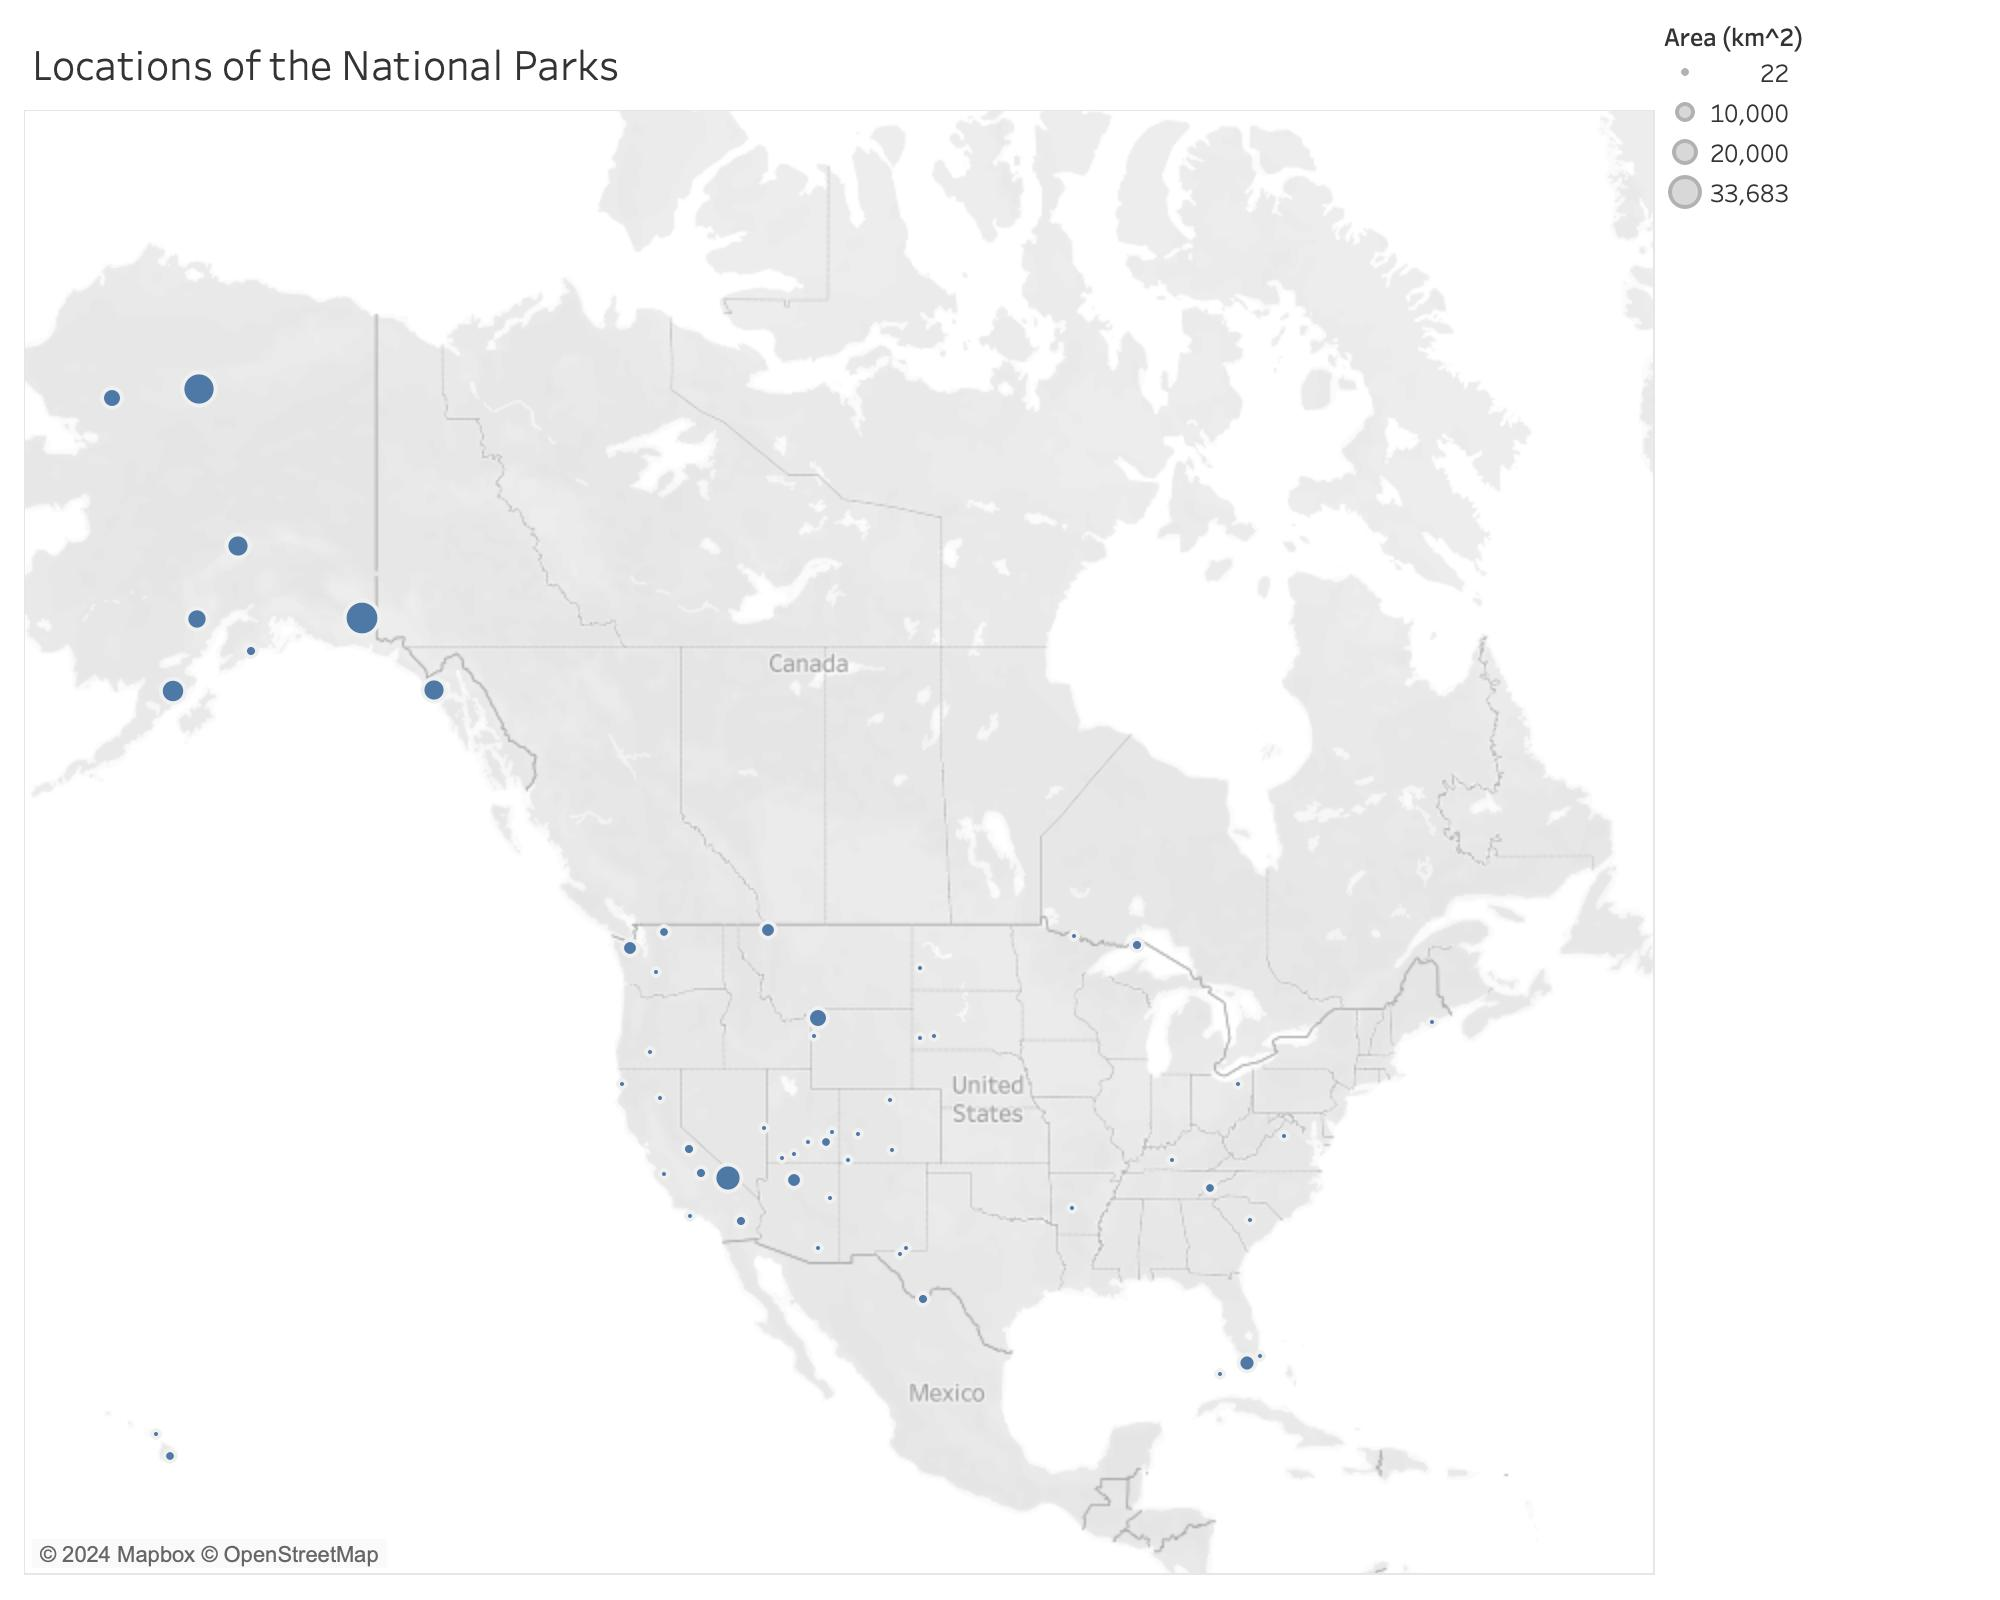

This screenshot's page, from the dashboard's own definition file:
{"tool":"tableau","page":{"name":"Dashboard 1","canvas":[1000,800],"ordinal":0},"visuals":[{"type":"worksheet","title":"us_parks_locations","mark":"Automatic","rows":["Latitude"],"cols":["Longitude"],"box":[8,8,824,784]},{"type":"legend","title":"us_parks_locations","param":"[federated.0cdlst71lt6bko19hse2d0mgkbwd].[sum:Calculation_2699907986871406592:qk","box":[831,8,162,237]}]}

Visuals, with their boxes in screenshot pixels (x1, y1, x2, y2), scaled from the page's 1000x800 canvas onto the 2000x1600 screenshot:
"us_parks_locations" worksheet: 16,16,1664,1584
"us_parks_locations" legend: 1662,16,1986,490
